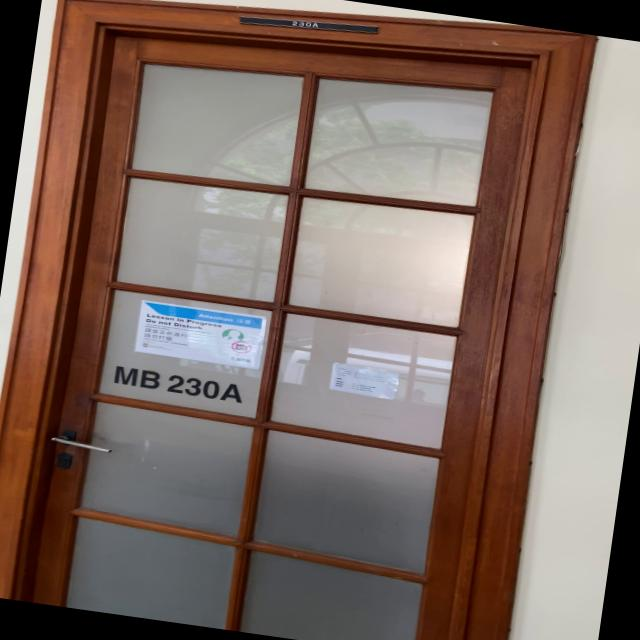room230A: (235, 6, 383, 44)
room230AWindow: (106, 362, 251, 407)
